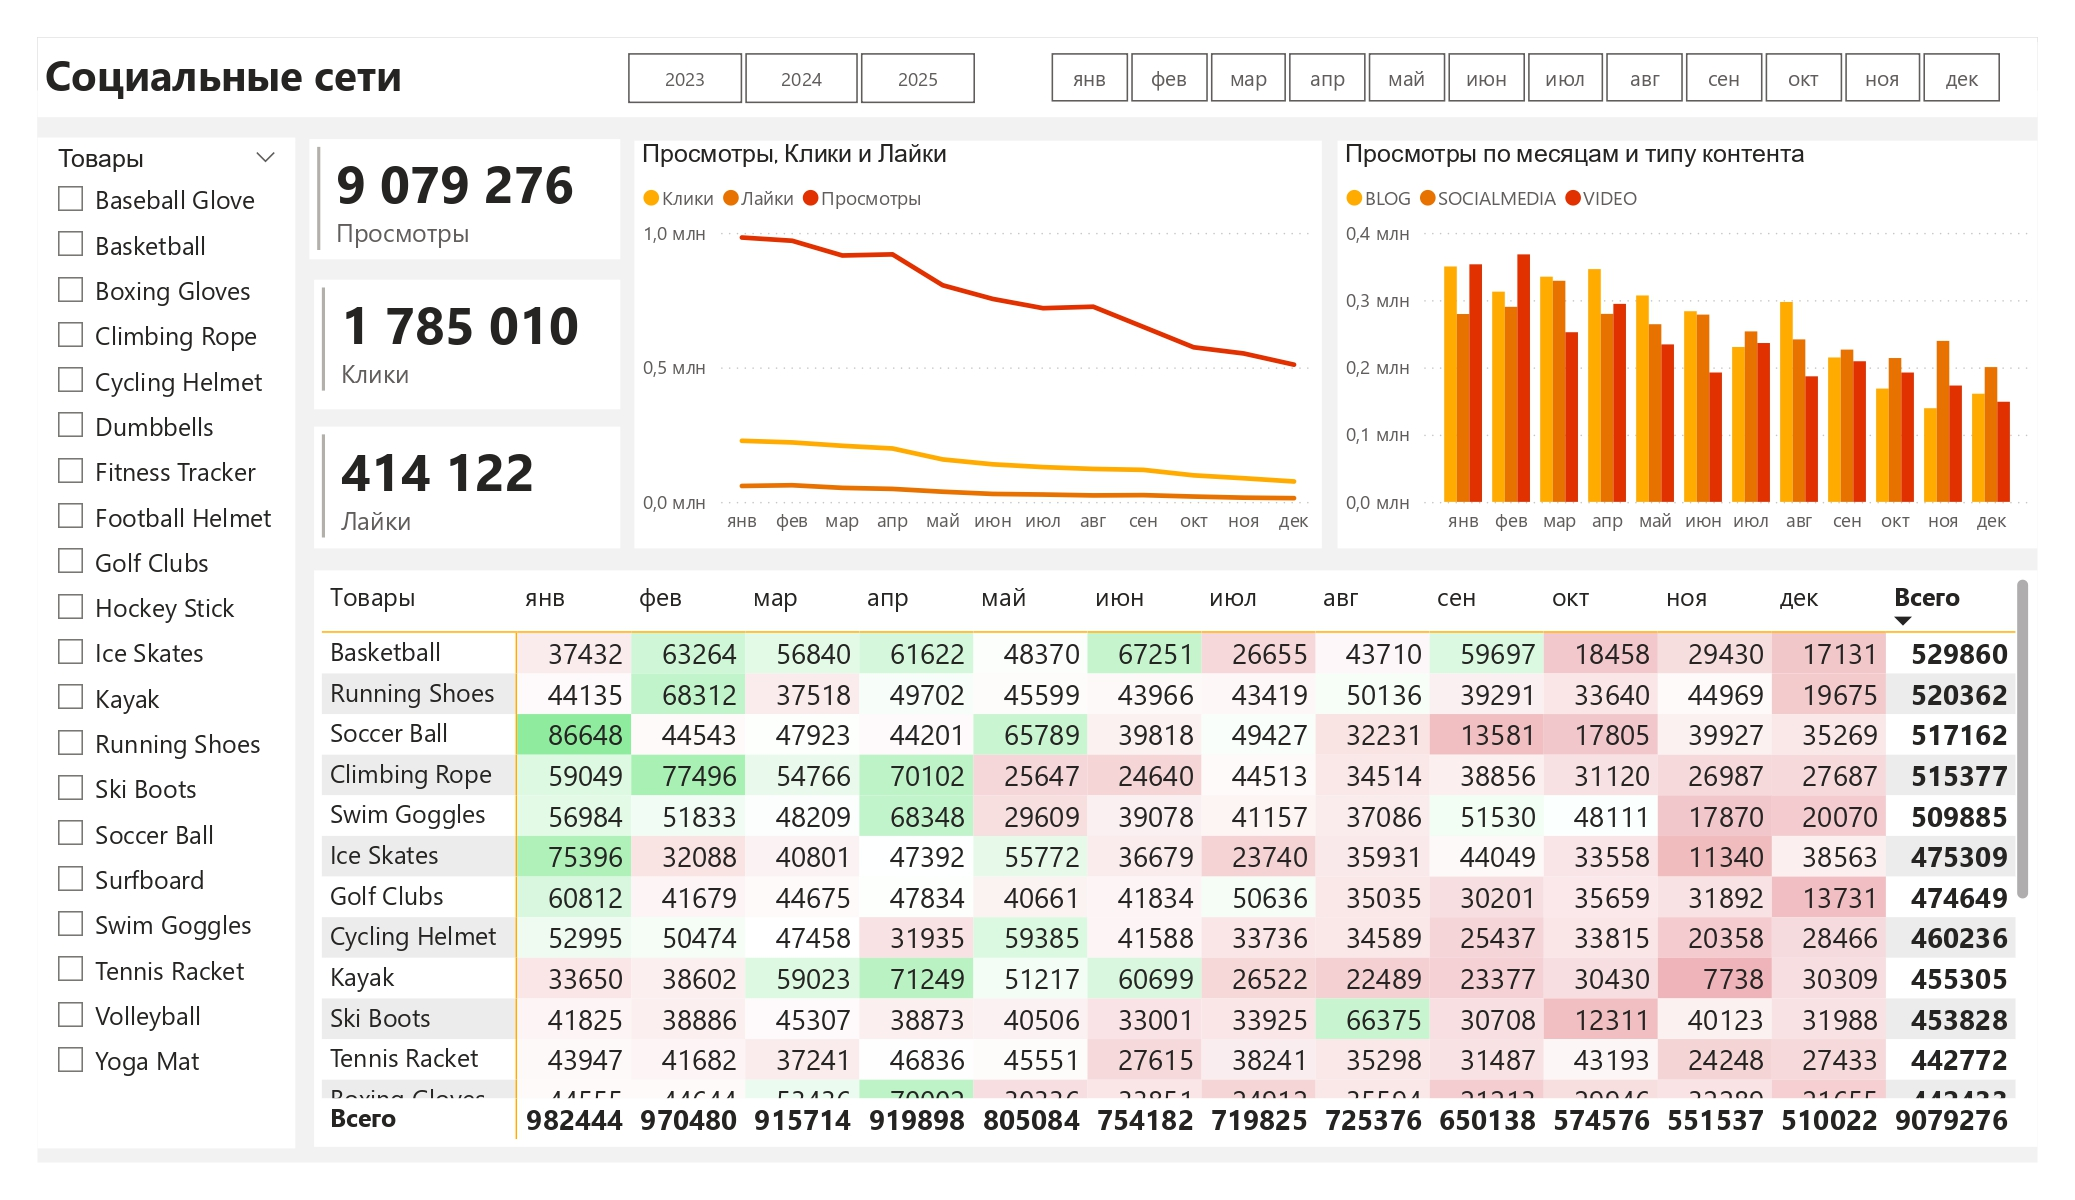

Layout of this report page (visuals, bound fields, positions):
{"tool":"powerbi","page":{"name":"Анализ социальных сетей","canvas":[1280,720],"ordinal":2},"visuals":[{"type":"actionButton","box":[0,0,100,40],"z":0},{"type":"textbox","box":[0,0,1280.3,50.8],"z":1000},{"type":"slicer","fields":{"Values":["dim_products.ProductName"]},"box":[0,64.5,164.7,646.3],"z":2000},{"type":"multiRowCard","fields":{"Values":["_Calculations.Views"]},"box":[173.7,64.7,198.9,77.4],"z":3000},{"type":"multiRowCard","fields":{"Values":["_Calculations.Clicks"]},"box":[176.8,154.7,195.8,83.7],"z":4000},{"type":"multiRowCard","fields":{"Values":["_Calculations.Likes"]},"box":[176.8,249.4,195.8,77.4],"z":5000},{"type":"slicer","fields":{"Values":["Calendar.Year"]},"box":[352,3.2,271.5,45.8],"z":6000},{"type":"slicer","fields":{"Values":["Calendar.MonthNameShort"]},"box":[623,2.7,657.3,45.3],"z":7000},{"type":"lineChart","title":"Просмотры, Клики и Лайки","fields":{"Category":["Calendar.MonthNameShort"],"Y":["_Calculations.Clicks","_Calculations.Likes","_Calculations.Views"]},"box":[381.9,65.9,440.4,261.2],"z":8000},{"type":"clusteredColumnChart","title":"Просмотры по месяцам и типу контента","fields":{"Category":["Calendar.MonthNameShort"],"Y":["_Calculations.Views"],"Series":["fact_engagement_data.ContentType"]},"box":[832.2,65.9,447.8,261.2],"z":9000},{"type":"pivotTable","fields":{"Rows":["dim_products.ProductName"],"Columns":["Calendar.MonthNameShort"],"Values":["_Calculations.Views"]},"box":[176.8,341,1103.5,369.4],"z":10000}]}

Visuals, with their boxes in screenshot pixels (x1, y1, x2, y2):
actionButton: 38/38/194/100
textbox: 38/38/2038/117
slicer - dim_products.ProductName: 38/138/295/1148
multiRowCard - _Calculations.Views: 309/139/620/260
multiRowCard - _Calculations.Clicks: 314/279/620/410
multiRowCard - _Calculations.Likes: 314/427/620/548
slicer - Calendar.Year: 588/42/1012/114
slicer - Calendar.MonthNameShort: 1011/42/2038/112
"Просмотры, Клики и Лайки" lineChart: 634/140/1322/549
"Просмотры по месяцам и типу контента" clusteredColumnChart: 1338/140/2038/549
pivotTable - dim_products.ProductName x Calendar.MonthNameShort: 314/570/2038/1148
